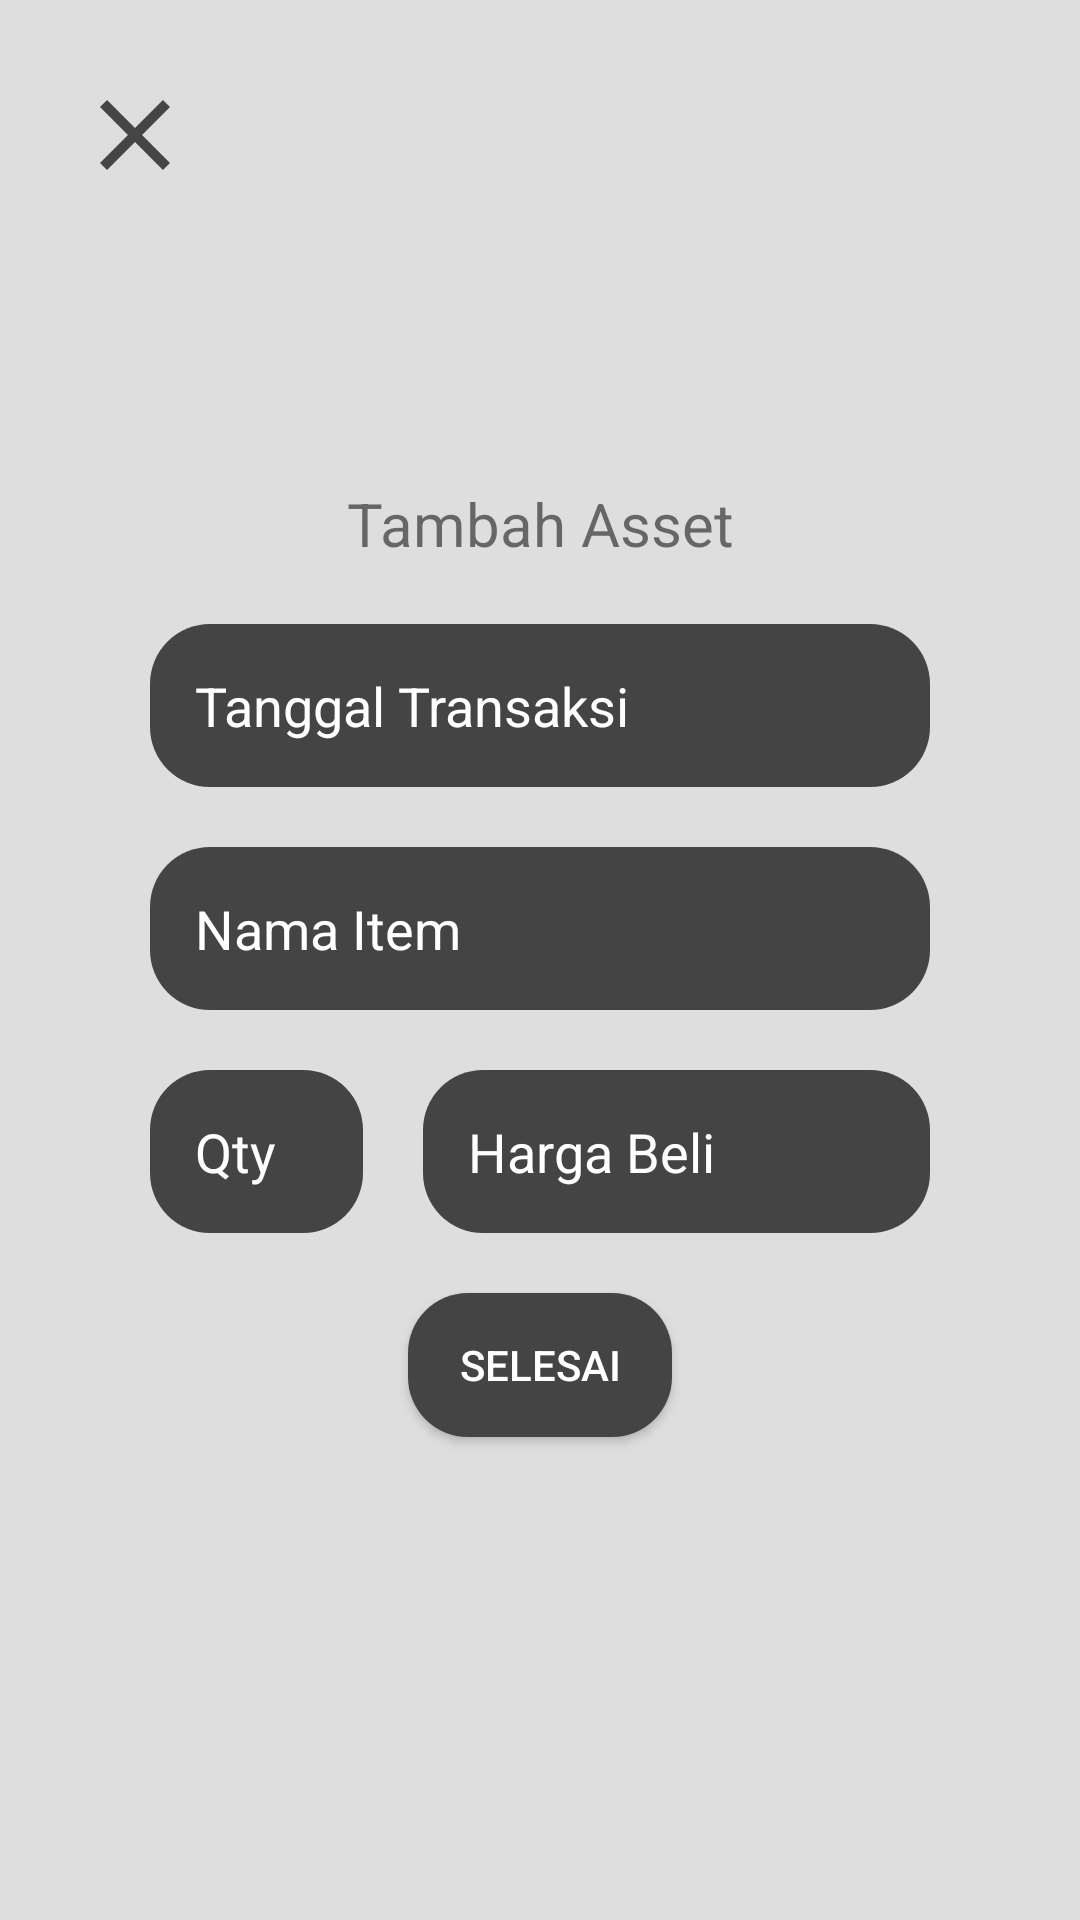

Icon click points for this 1080px x 1920px phone screenshot, format [x,y]:
close: [135,135]
